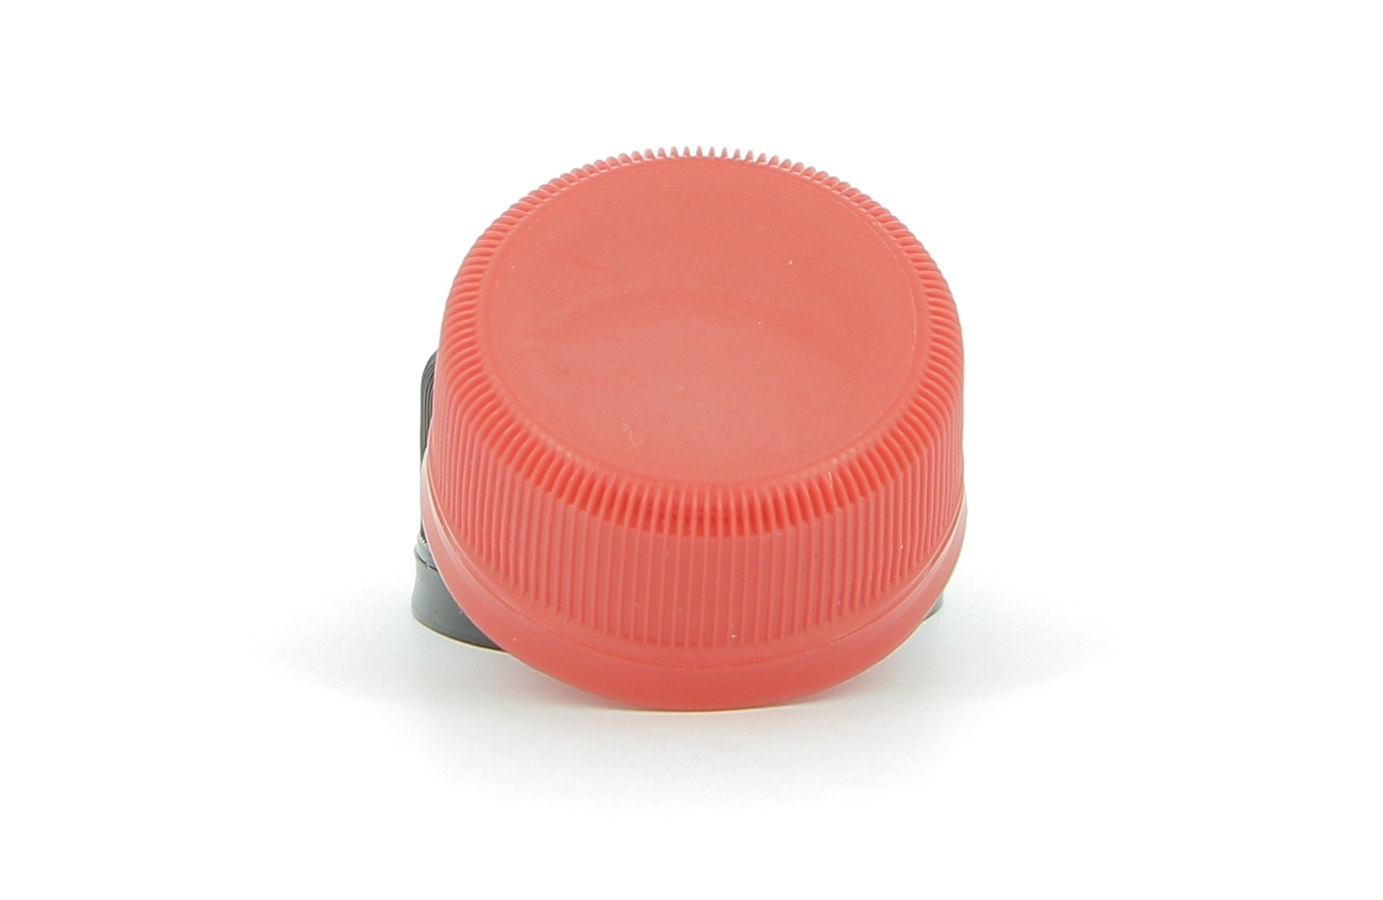PlasticCap: (428, 133, 976, 714)
